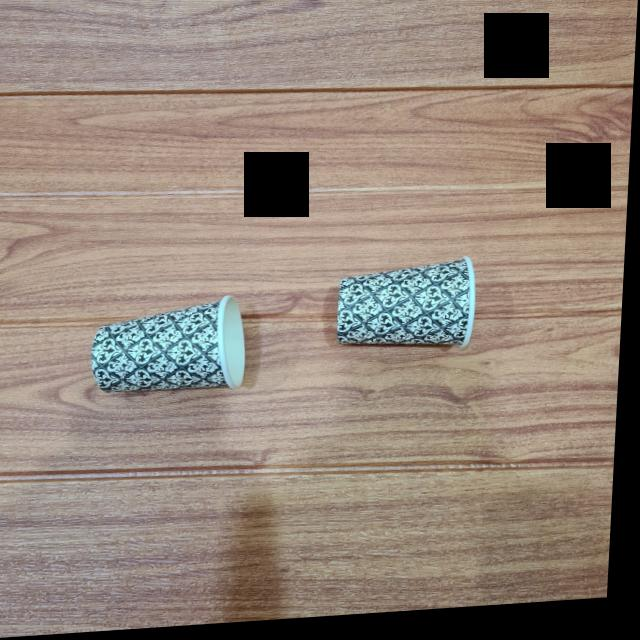cups: (97, 296, 260, 408), (335, 262, 485, 354)
